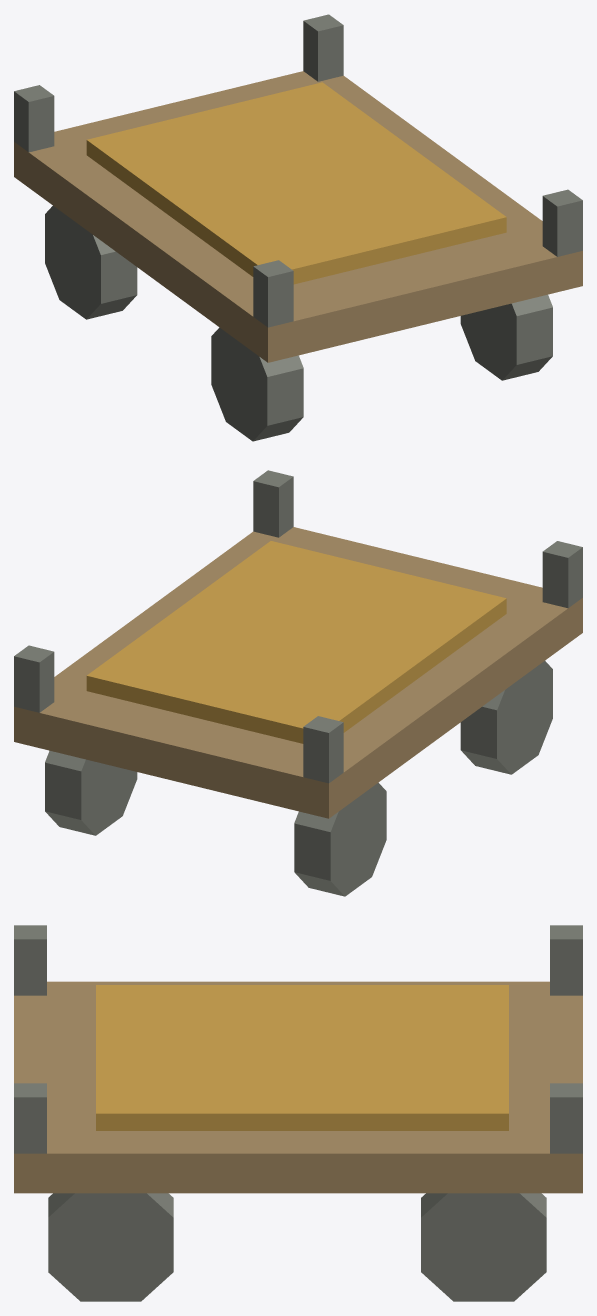
Rendered from Car_Road.fbx.
The picture shows the model from 3 angles, top to bottom: view 1: azimuth 30°, elevation 25°; view 2: azimuth 150°, elevation 25°; view 3: azimuth 270°, elevation 25°; orthographic projection. The views are drawn at different scales.
Visible parts, largest first — view 1: Car_Road, masuRoad_OnCar; view 2: Car_Road, masuRoad_OnCar; view 3: Car_Road, masuRoad_OnCar.
Boxes of the visible parts, x1,y1,x2,y2 form: Car_Road: (14,14,582,441); masuRoad_OnCar: (86,82,506,284); Car_Road: (14,470,582,896); masuRoad_OnCar: (86,541,506,743); Car_Road: (14,925,582,1301); masuRoad_OnCar: (96,985,508,1130).
Size of the model in its own units: 2.55 by 1.47 by 3.57.
